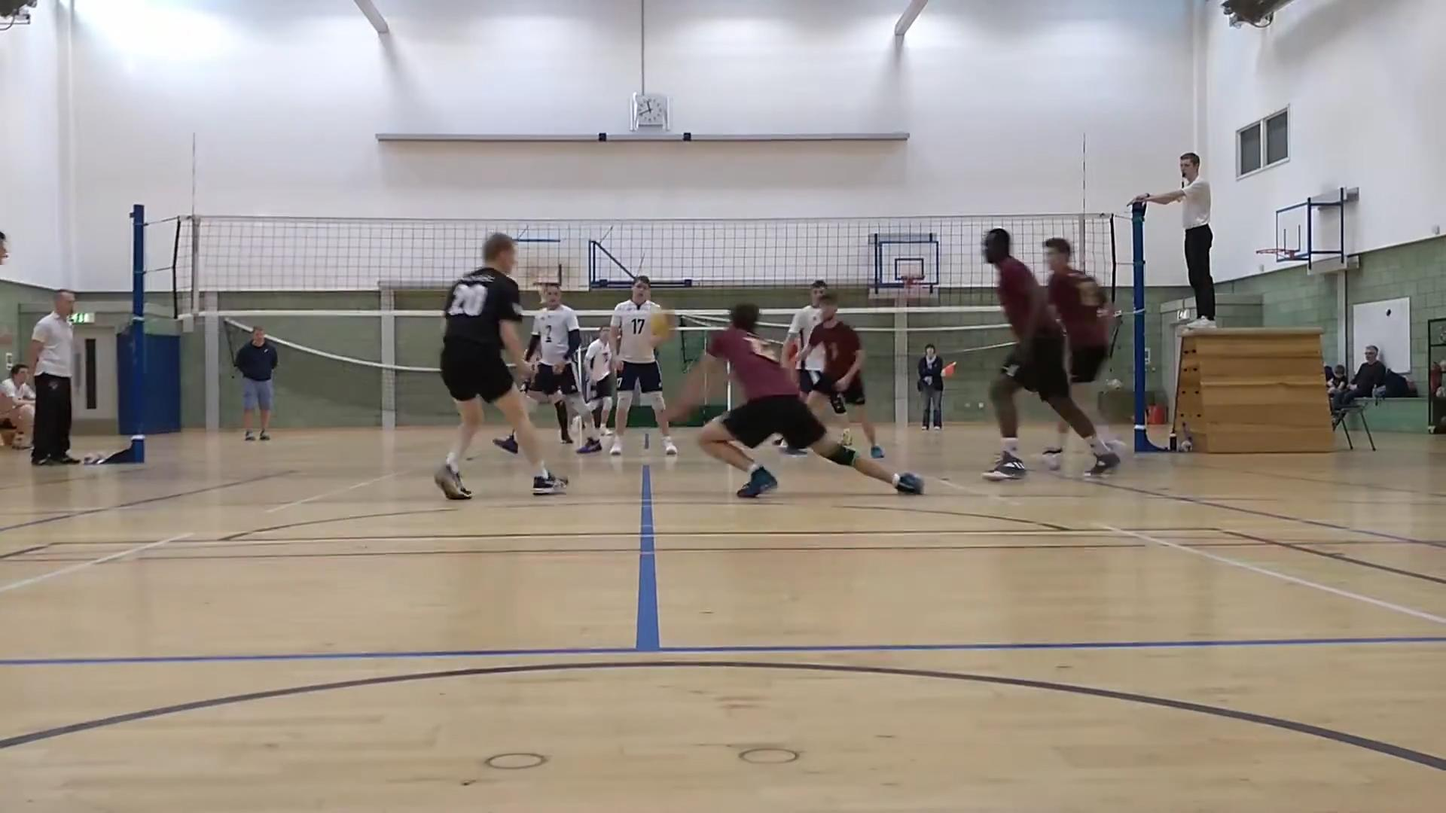Player: (434, 234, 566, 499), (984, 228, 1119, 480), (1043, 237, 1121, 452), (526, 283, 601, 454), (806, 293, 883, 458), (610, 276, 677, 455), (782, 280, 828, 398), (583, 326, 613, 435)
Receive: (657, 293, 932, 501)
ball: (639, 312, 676, 337)
